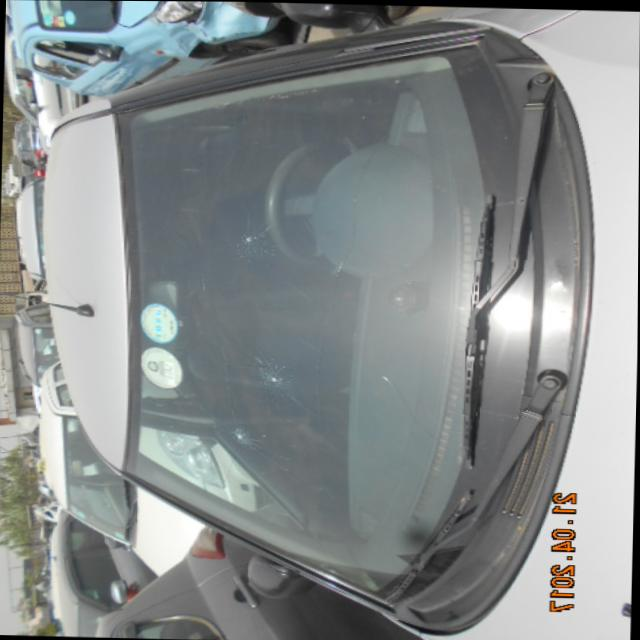Glass_Break: (241, 350, 311, 403), (213, 414, 280, 464)
